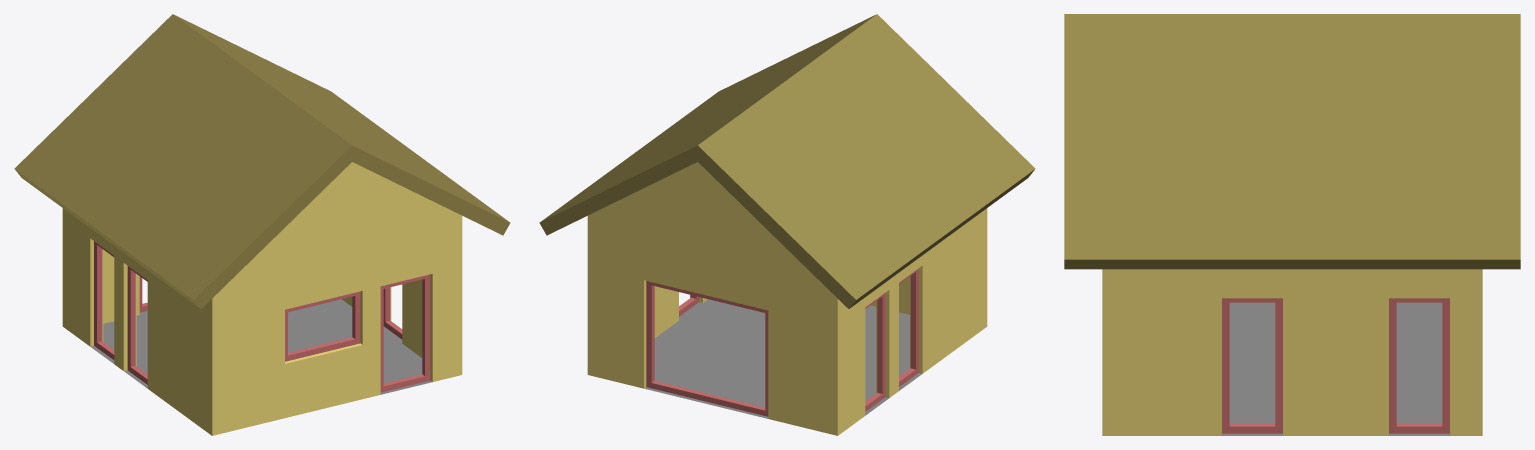
The model's file is result.glb.
3 views of the same model, side by side, from view 1: azimuth 30°, elevation 25°; view 2: azimuth 150°, elevation 25°; view 3: azimuth 270°, elevation 25° (orthographic). The views are drawn at different scales.
Parts seen in each view (by area): view 1: 81b55873-cb47-4cbb-a4a7-5529f6a41dbe__undefined (×2), c3185366-aafd-421d-bb25-f020154afbc2__undefined, b3d49c3d-d04b-4b6e-9712-81efd8a715fe__Plane_8, d21e6cae-b31f-4052-a347-5dc18c2f421b__Box, f4412e27-7193-4491-9815-a9a4c86c4efb__Box_3, c5e35138-8289-494a-955f-d8e35bf7641b__Box_12, 8f7ab8aa-dd38-40d4-9614-492c15c0eb39__Box_15; view 2: 81b55873-cb47-4cbb-a4a7-5529f6a41dbe__undefined (×2), c3185366-aafd-421d-bb25-f020154afbc2__undefined, b3d49c3d-d04b-4b6e-9712-81efd8a715fe__Plane_8, 1dd818d5-ea11-4efc-ad77-4fe877b892a3__Box_9, 8f7ab8aa-dd38-40d4-9614-492c15c0eb39__Box_15, c5e35138-8289-494a-955f-d8e35bf7641b__Box_12; view 3: 81b55873-cb47-4cbb-a4a7-5529f6a41dbe__undefined, c3185366-aafd-421d-bb25-f020154afbc2__undefined, b3d49c3d-d04b-4b6e-9712-81efd8a715fe__Plane_8, a2874f65-413e-464b-8f95-80c2ae09d785__Box_18, d3da87d6-216e-42b7-9ba7-7c89ee3c397e__Box_21.
Part boxes in pixels (<box>): 81b55873-cb47-4cbb-a4a7-5529f6a41dbe__undefined (×2): <box>14,14,510,308</box>; c3185366-aafd-421d-bb25-f020154afbc2__undefined: <box>62,162,462,435</box>; b3d49c3d-d04b-4b6e-9712-81efd8a715fe__Plane_8: <box>90,299,432,394</box>; d21e6cae-b31f-4052-a347-5dc18c2f421b__Box: <box>380,274,430,392</box>; f4412e27-7193-4491-9815-a9a4c86c4efb__Box_3: <box>285,291,360,361</box>; c5e35138-8289-494a-955f-d8e35bf7641b__Box_12: <box>127,266,147,384</box>; 8f7ab8aa-dd38-40d4-9614-492c15c0eb39__Box_15: <box>94,241,114,359</box>; 81b55873-cb47-4cbb-a4a7-5529f6a41dbe__undefined (×2): <box>539,14,1035,308</box>; c3185366-aafd-421d-bb25-f020154afbc2__undefined: <box>587,162,987,435</box>; b3d49c3d-d04b-4b6e-9712-81efd8a715fe__Plane_8: <box>644,299,922,418</box>; 1dd818d5-ea11-4efc-ad77-4fe877b892a3__Box_9: <box>646,281,768,416</box>; 8f7ab8aa-dd38-40d4-9614-492c15c0eb39__Box_15: <box>865,293,885,411</box>; c5e35138-8289-494a-955f-d8e35bf7641b__Box_12: <box>899,268,918,386</box>; 81b55873-cb47-4cbb-a4a7-5529f6a41dbe__undefined: <box>1064,14,1520,269</box>; c3185366-aafd-421d-bb25-f020154afbc2__undefined: <box>1102,269,1482,435</box>; b3d49c3d-d04b-4b6e-9712-81efd8a715fe__Plane_8: <box>1222,302,1449,435</box>; a2874f65-413e-464b-8f95-80c2ae09d785__Box_18: <box>1222,298,1282,433</box>; d3da87d6-216e-42b7-9ba7-7c89ee3c397e__Box_21: <box>1389,298,1449,433</box>.
Bounding box in the file's own units: 612 × 500 × 600.
